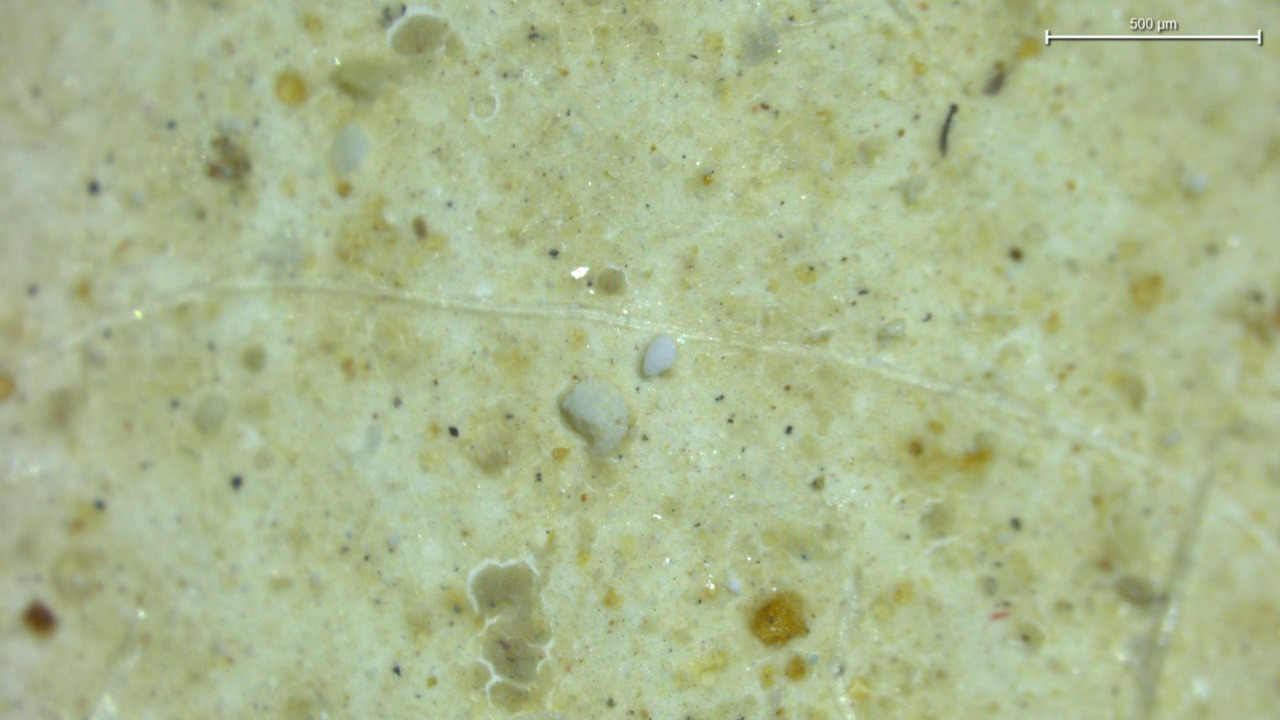microplastic_fragment: (559, 379, 629, 456), (643, 334, 678, 376)
